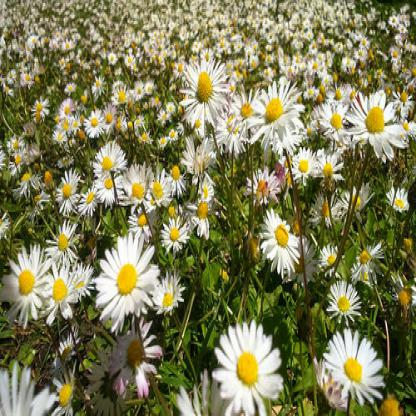ASTER: (3, 6, 410, 404)
